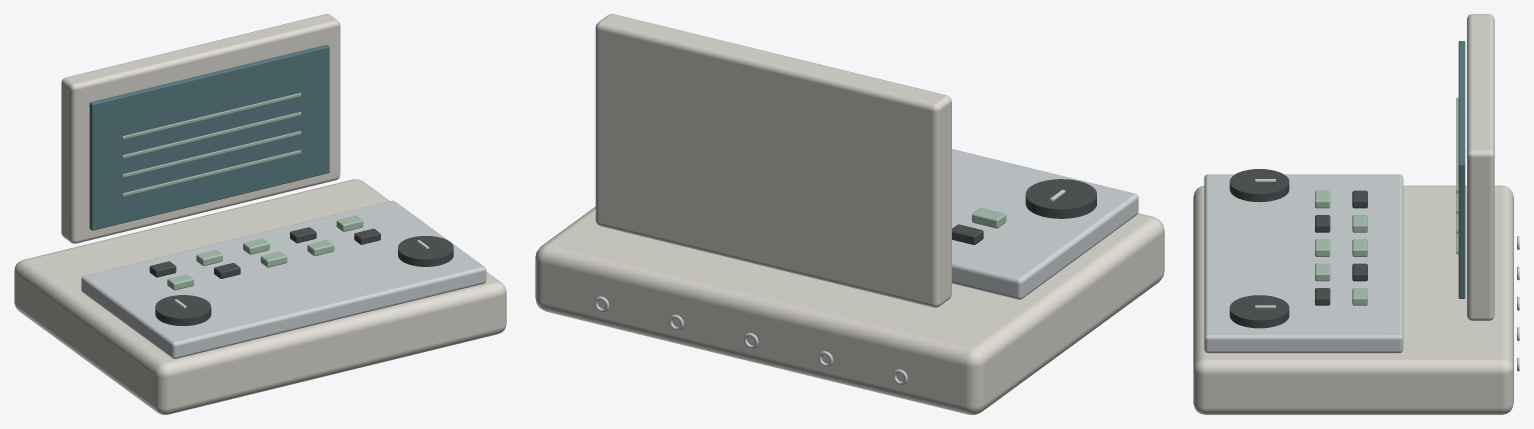
File: hearing-aid-and-audiology-clinic-diagnostic-audiometer-d5020225__31722.glb
3 renders of one model, left to right at view 1: azimuth 30°, elevation 25°; view 2: azimuth 150°, elevation 25°; view 3: azimuth 270°, elevation 25°, orthographic. The views are drawn at different scales.
Parts seen in each view (by area): view 1: diagnostic-audiometer-console; view 2: diagnostic-audiometer-console; view 3: diagnostic-audiometer-console.
Part boxes in pixels (x1,y1,x2,y2): diagnostic-audiometer-console: (14, 14, 506, 414); diagnostic-audiometer-console: (535, 14, 1164, 414); diagnostic-audiometer-console: (1193, 14, 1519, 414).
Size of the model in its own units: 0.39 by 0.245 by 0.2953.
